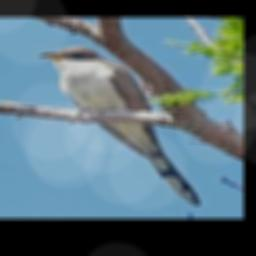Cuckoo: (41, 46, 202, 206)
